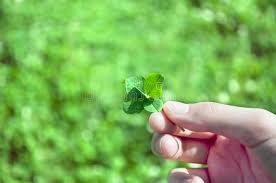4-clover: (122, 73, 166, 113)
